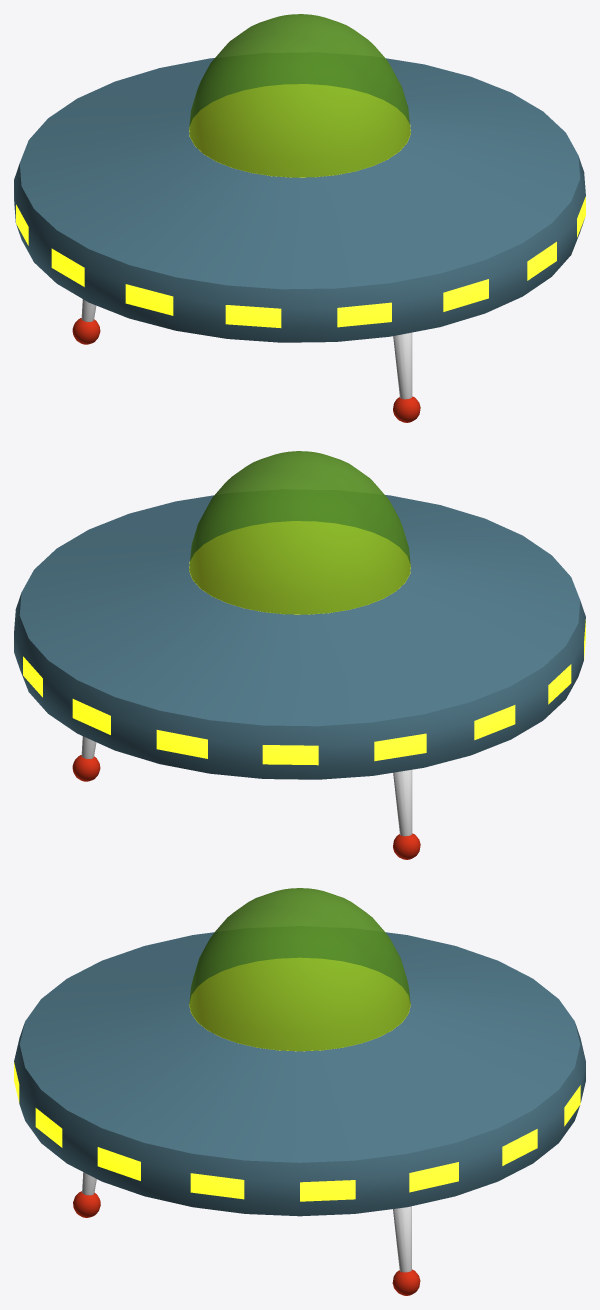
File: ufo_drone.glb
3 renders of one model, top to bottom at view 1: azimuth 30°, elevation 25°; view 2: azimuth 150°, elevation 25°; view 3: azimuth 270°, elevation 25°, orthographic.
Visible parts, largest first — view 1: ufo_drone; view 2: ufo_drone; view 3: ufo_drone.
Boxes of the visible parts, box(x1,y1,x2,y2) form: ufo_drone: box(14, 14, 585, 422); ufo_drone: box(14, 451, 585, 859); ufo_drone: box(14, 888, 585, 1295).
Bounding box in the file's own units: 0.7144 × 0.4398 × 0.7144.
Materials: 4 (4 with a texture image).
